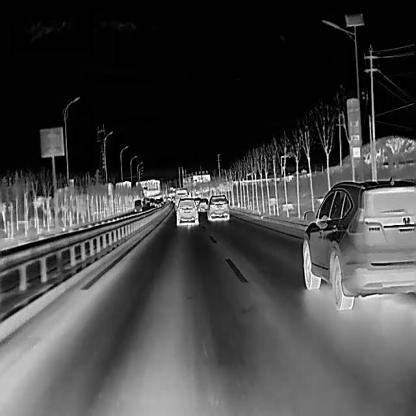bus: (174, 188, 188, 210)
car: (300, 178, 415, 310), (174, 197, 198, 226), (205, 194, 229, 220), (196, 197, 208, 211), (132, 199, 142, 211), (154, 198, 161, 206), (149, 198, 154, 206)
